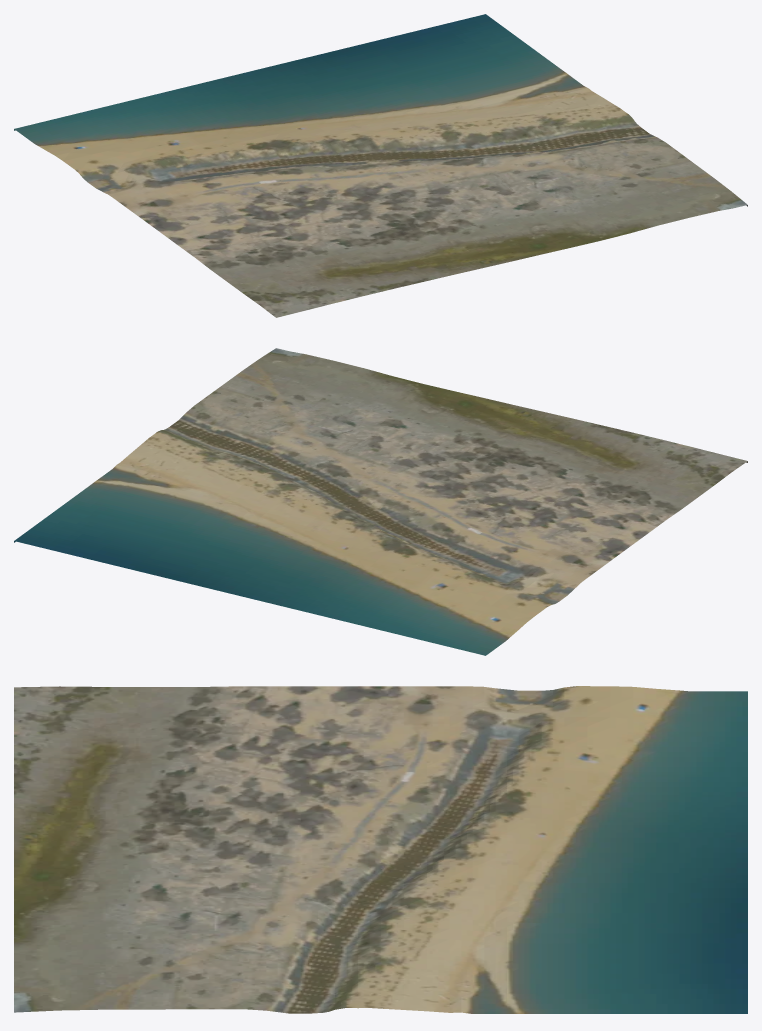
3 renders of one model, top to bottom at view 1: azimuth 30°, elevation 25°; view 2: azimuth 150°, elevation 25°; view 3: azimuth 270°, elevation 25°, orthographic. The views are drawn at different scales.
Size of the model in its own units: 250 by 3.59 by 241.
Materials: 1 (1 with a texture image).
